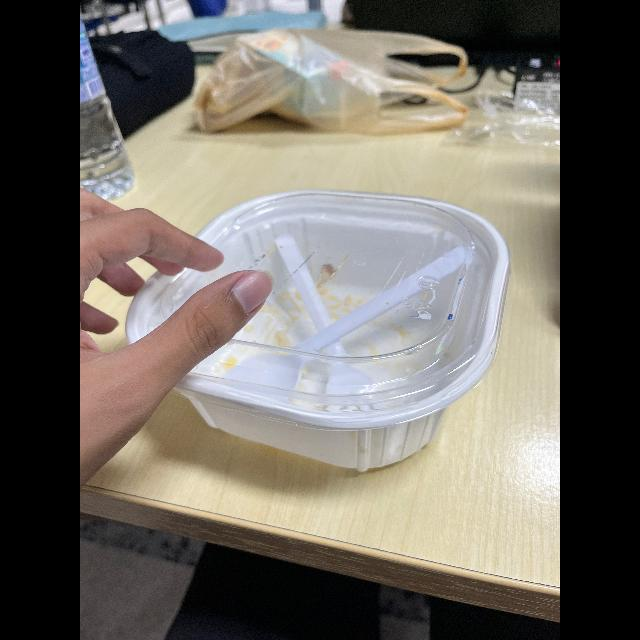plastic_box: (120, 184, 514, 486)
